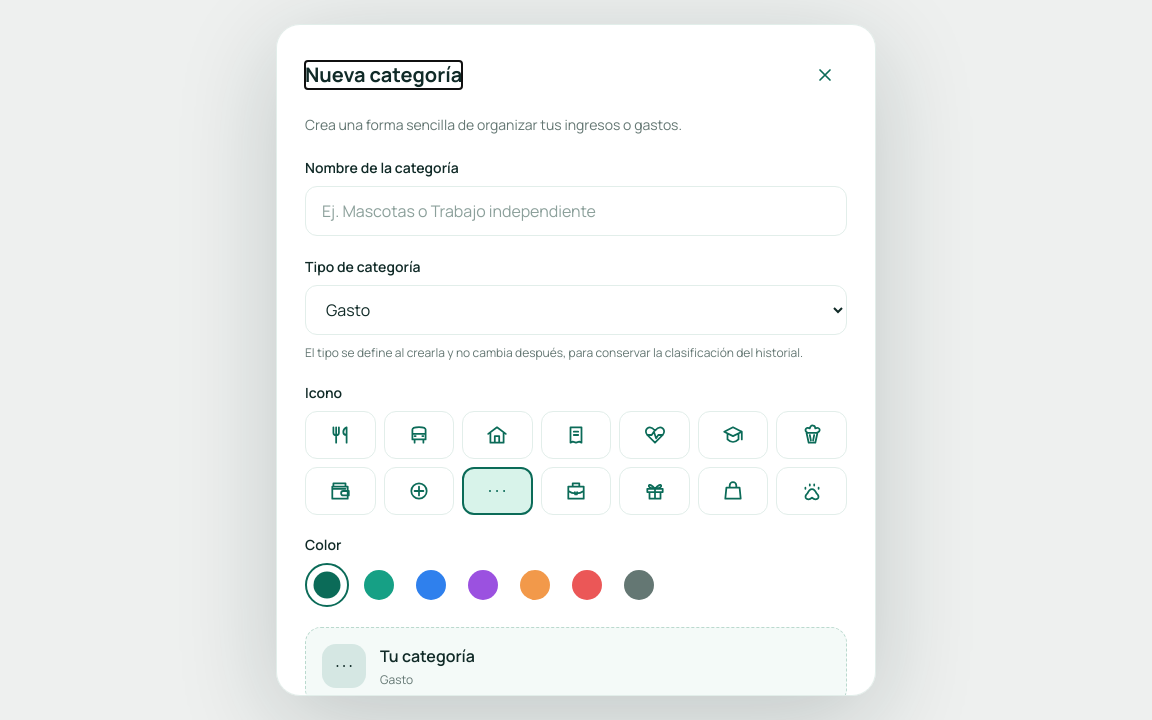
Test: conserva valores y enfoca el nombre al rechazar el formulario
This screenshot has width=1152, height=720.
Step 1. Select "Ingreso" in the dropdown labelled "Tipo de categoría" → (576, 310), box [305, 285, 847, 335]
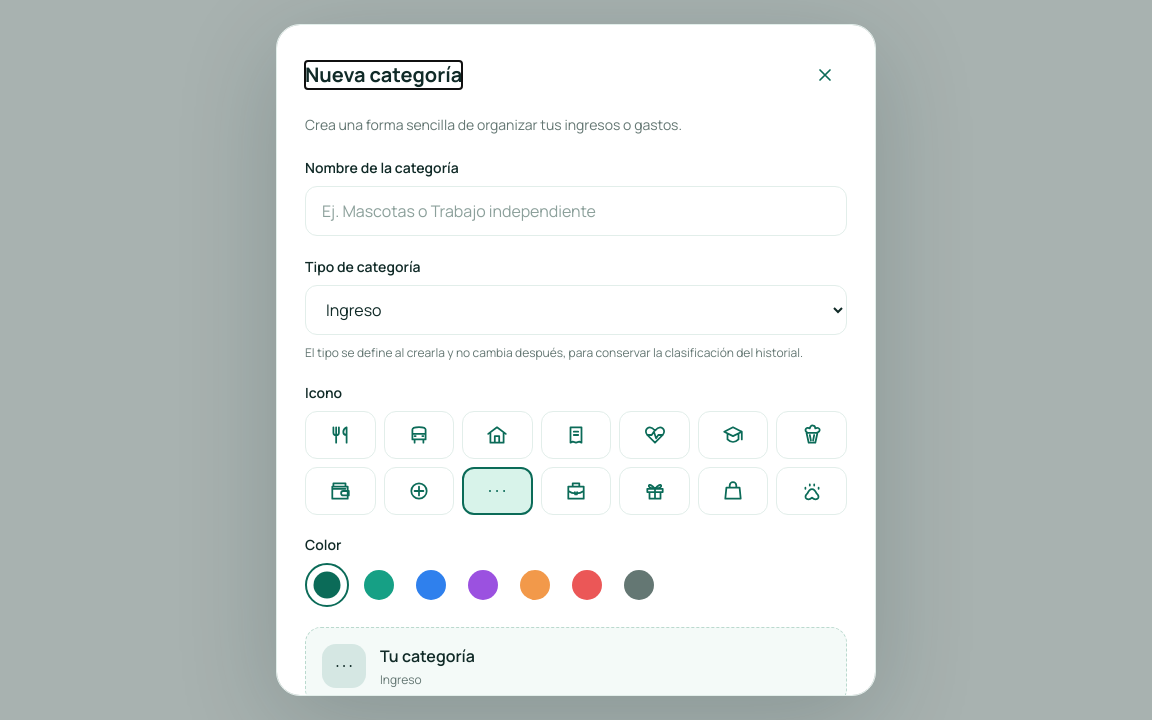
Step 2. Click the radio button named "Trabajo" → (576, 491), box [541, 467, 611, 515]
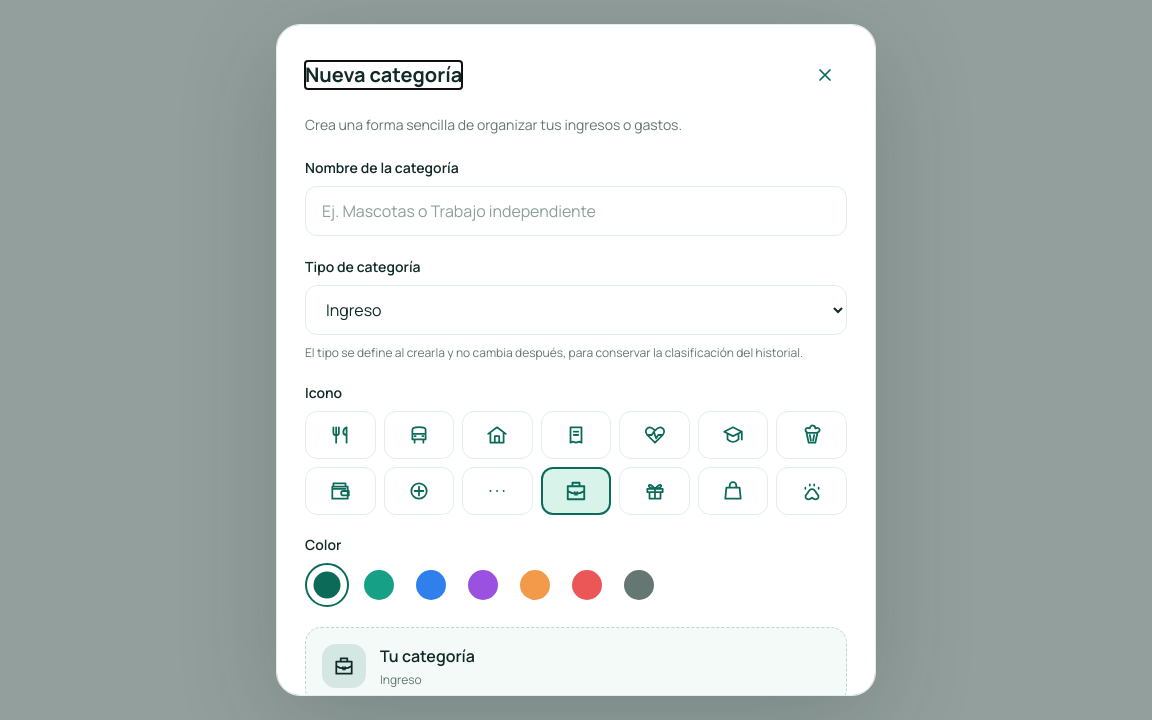
Step 3. Click the radio button named "Violeta" → (483, 585), box [461, 563, 505, 607]
(page scrolled)
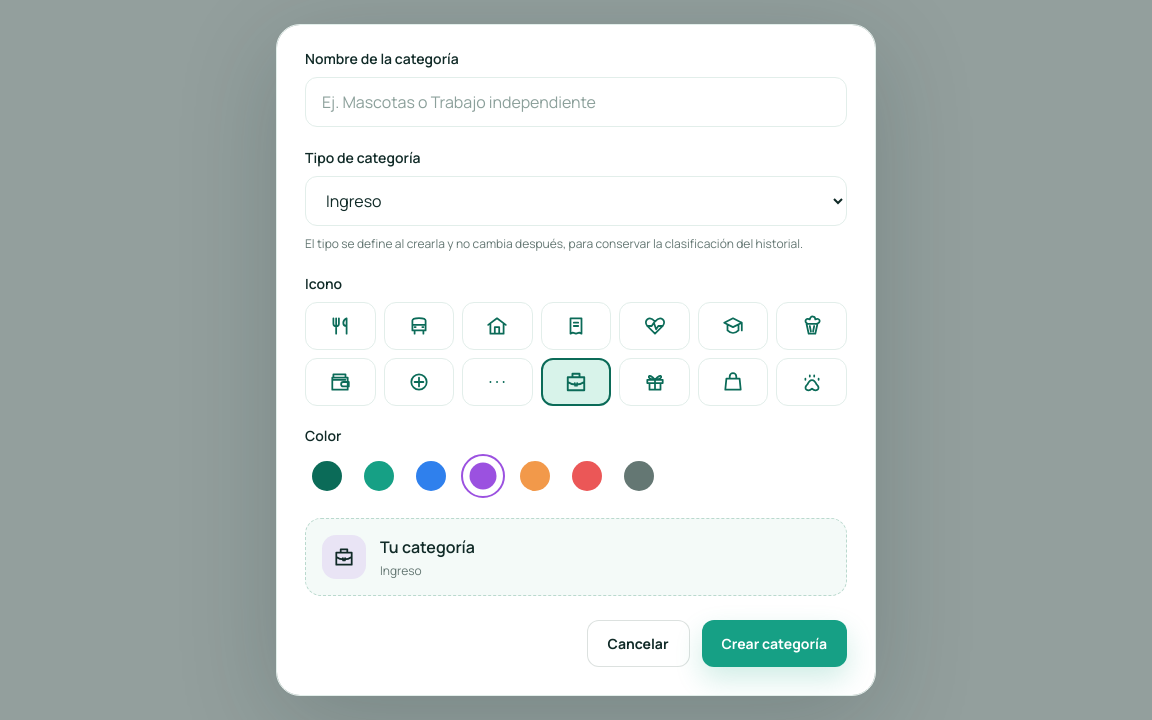
Step 4. Click the button "Crear categoría" → (774, 644), box [702, 620, 847, 667]
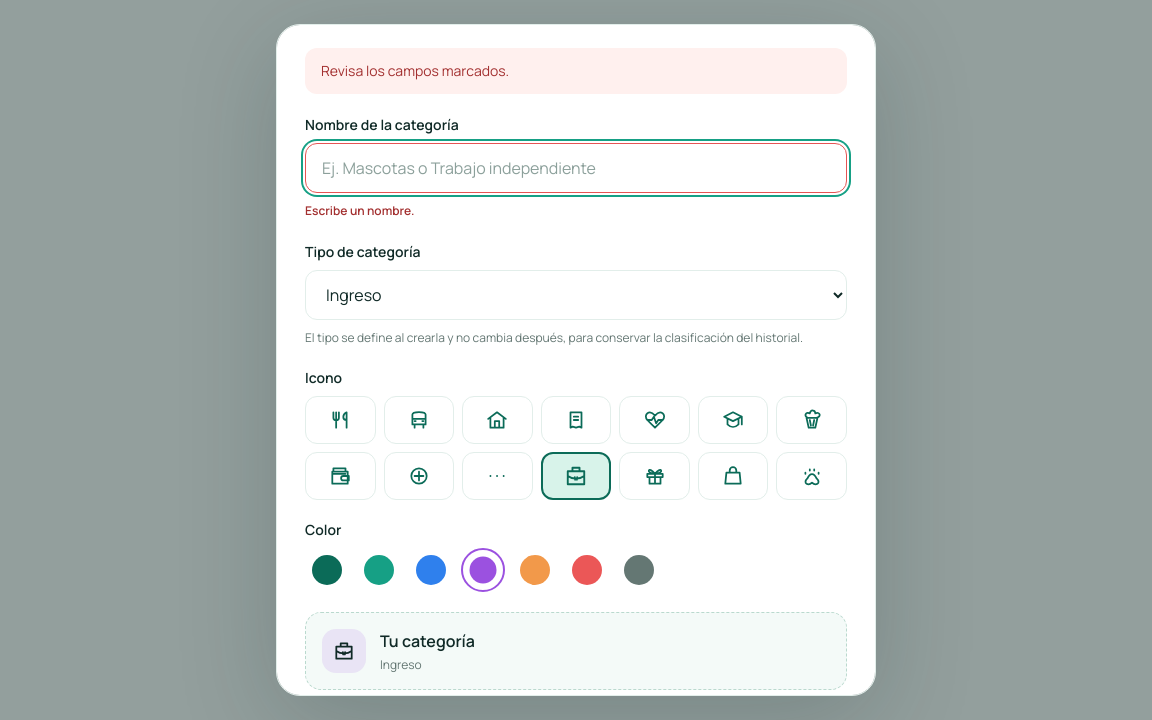
Now the radio button named "Trabajo" is checked, box [541, 452, 611, 500]
Now the radio button named "Violeta" is checked, box [461, 548, 505, 592]
Now the message "Revisa los campos marcados." is shown, box [305, 48, 847, 94]
